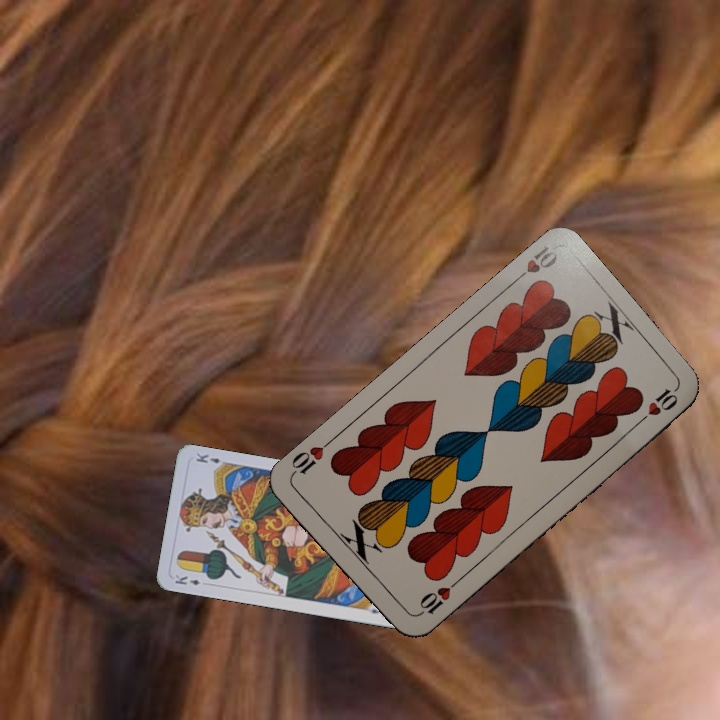EK: (171, 570, 203, 588)
H10: (508, 242, 562, 287), (411, 577, 460, 620)
